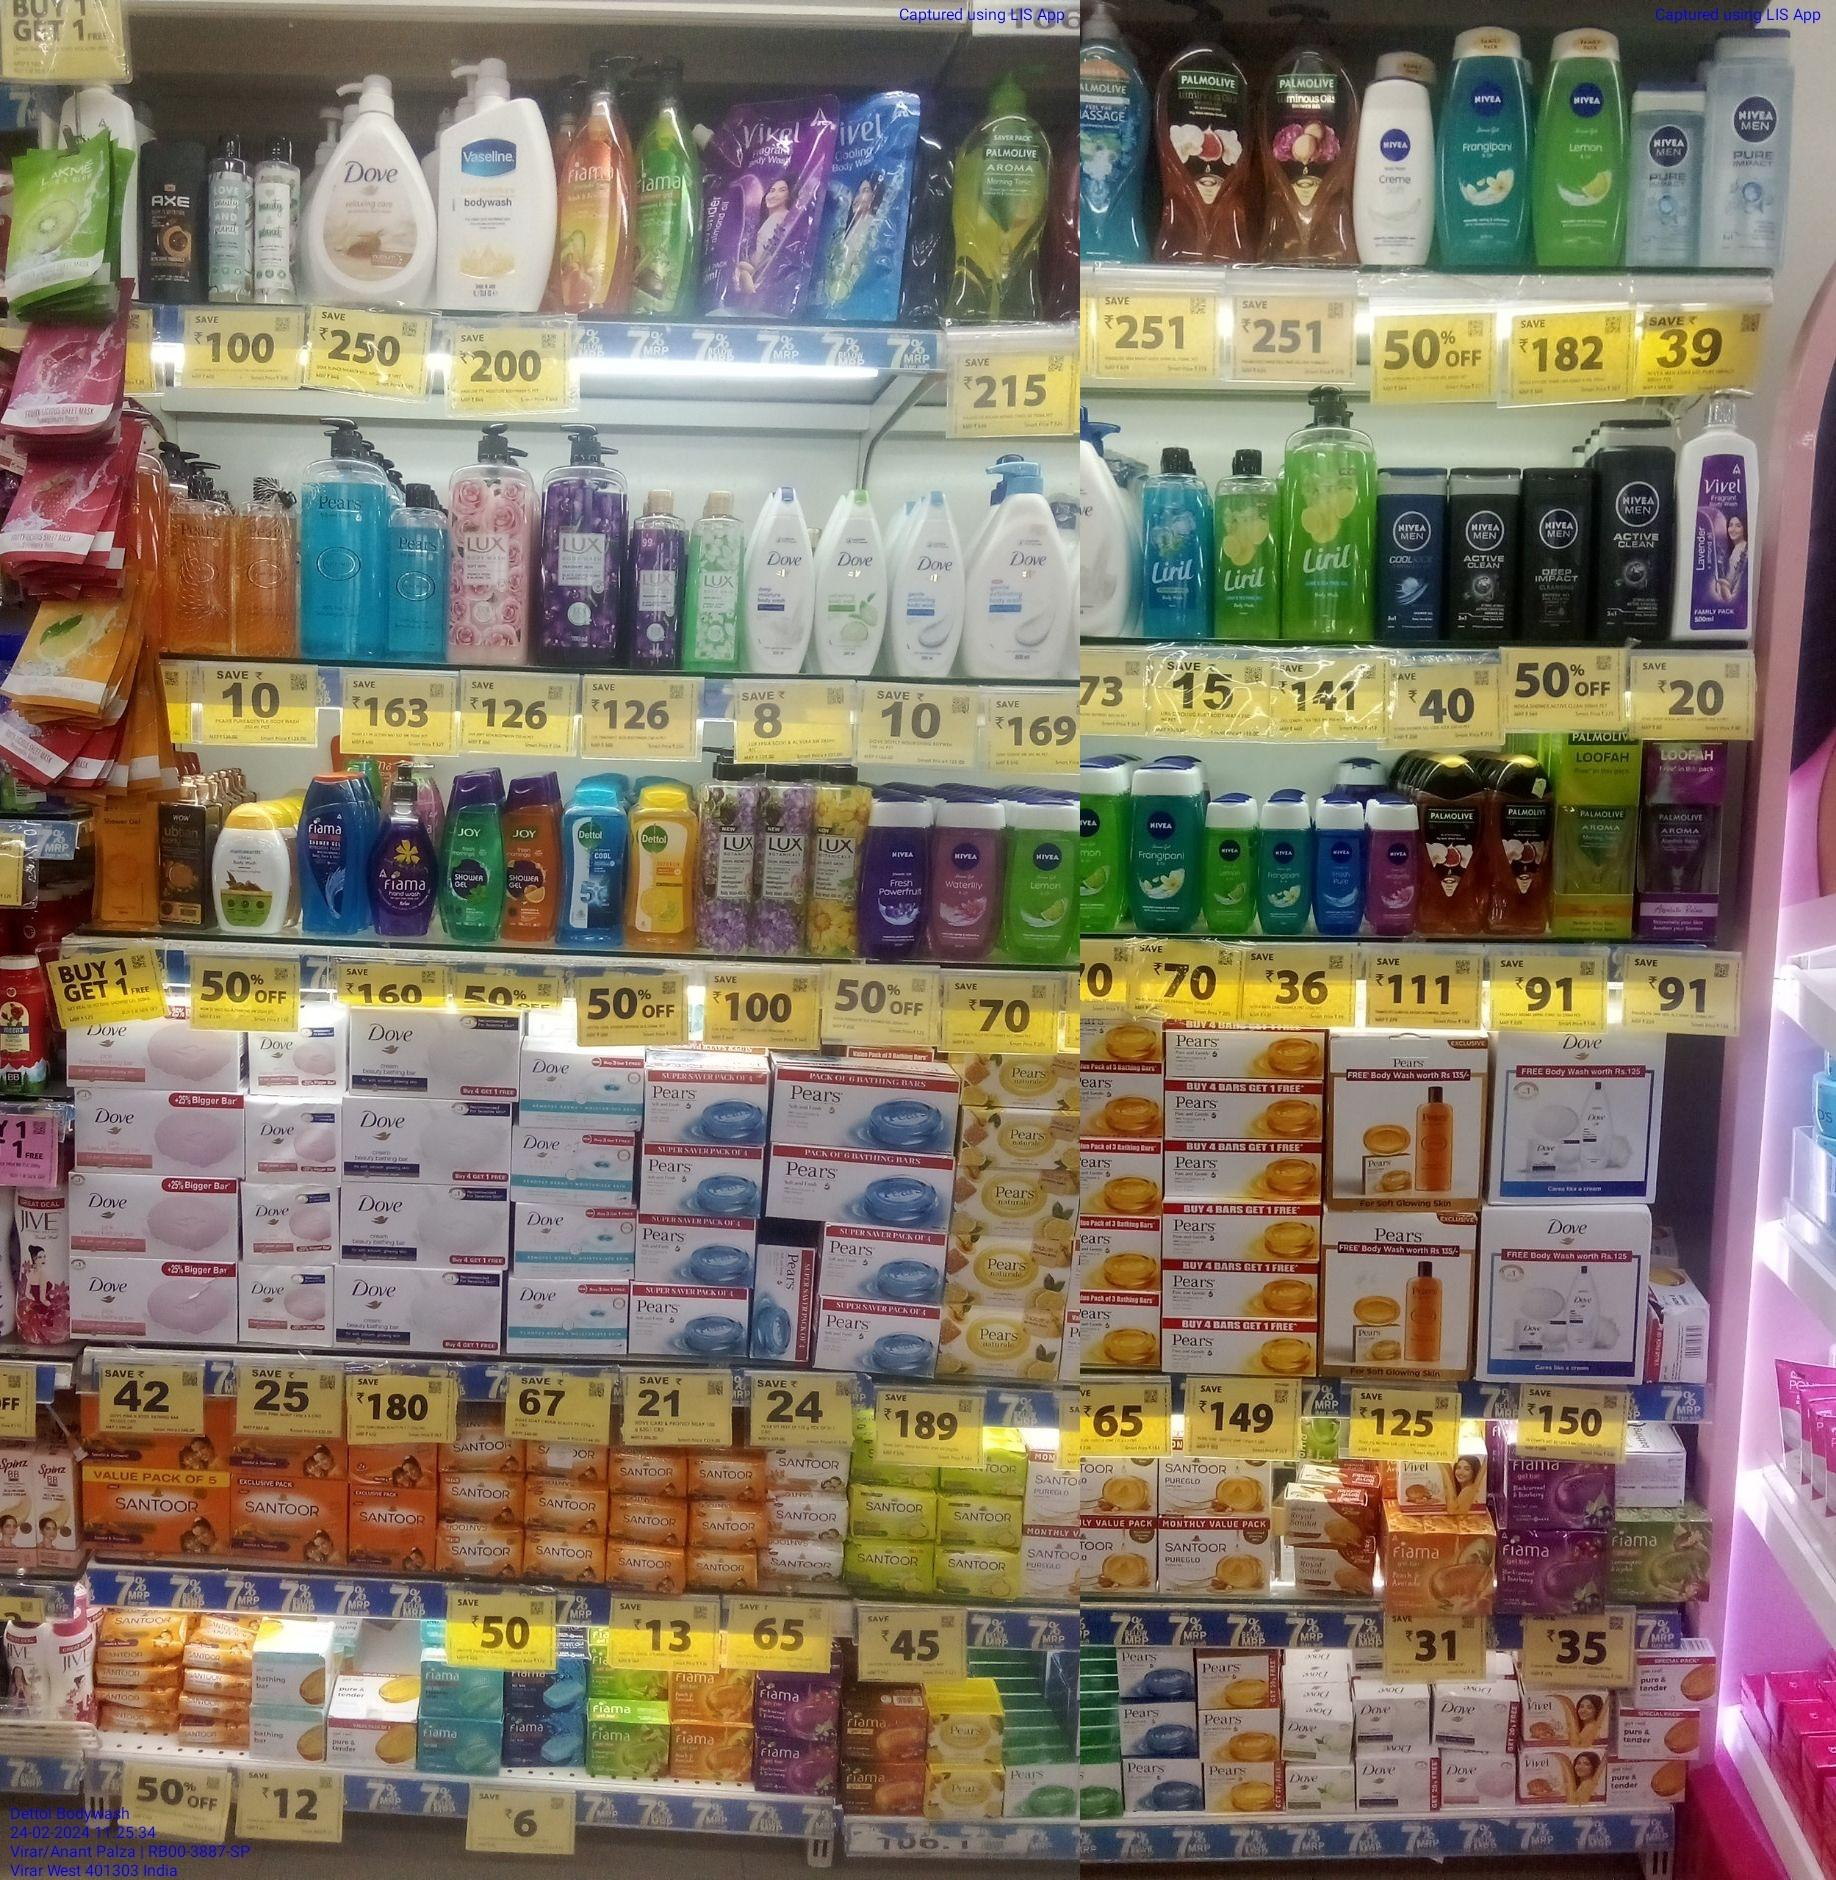Dettol_Bodywash_Cool: (562, 790, 619, 948)
Dettol_Bodywash_Refresh: (629, 787, 694, 952)
Dove_Deep_Moisture_Body_Wash_250ML: (741, 479, 810, 674)
Dove_Gentle_Exfoliating_Body_Wash_250ML: (891, 476, 963, 678)
Dove_Refreshing_Body_Wash_250ML: (819, 489, 883, 674)
Joy_Shower_Gel_Mandarin_and_Lemongrass_250ML: (508, 779, 557, 942)
Joy_Shower_Gel_Mint_and_Eucalyptus_250ML: (434, 775, 503, 937)
Liril_Cooling_Mint_Body_Wash_250ML: (1138, 452, 1206, 639)
Liril_Lime_and_Tea_Tree_Oil_Body_Wash_250ML: (1214, 444, 1278, 637)
Lux_Black_Orchid_Scent_and_Juniper_Oil_Body_Wash_245ML: (632, 479, 678, 666)
Lux_Body_Wash_Skin_Detox_Freesia_Scent_and_Alove_Vera_245ML: (688, 484, 733, 671)
Nivea_Creme_Soft_Body_Wash_250ML: (1355, 76, 1432, 264)
Nivea_Shower_Gel_Frangipani_and_Oil_250ML: (1434, 25, 1528, 264), (1132, 770, 1199, 928)
Nivea_Shower_Gel_Fresh_Powerfruit_250ML: (863, 799, 926, 957)
Nivea_Shower_Gel_Lemon_and_Oil_250ML: (1535, 30, 1628, 261), (1004, 807, 1078, 962)
Nivea_Shower_Gel_Waterlily_and_Oil_250ML: (933, 804, 999, 960)
Palmolive_Luminous_Oils_With_White_Orchid_Shower_Gel_250ML: (1485, 760, 1550, 935), (1419, 758, 1481, 938)
Pears_Pure_Glycerin_and_Mint_Extracts_Body_Wash_250ML: (388, 483, 451, 666)
